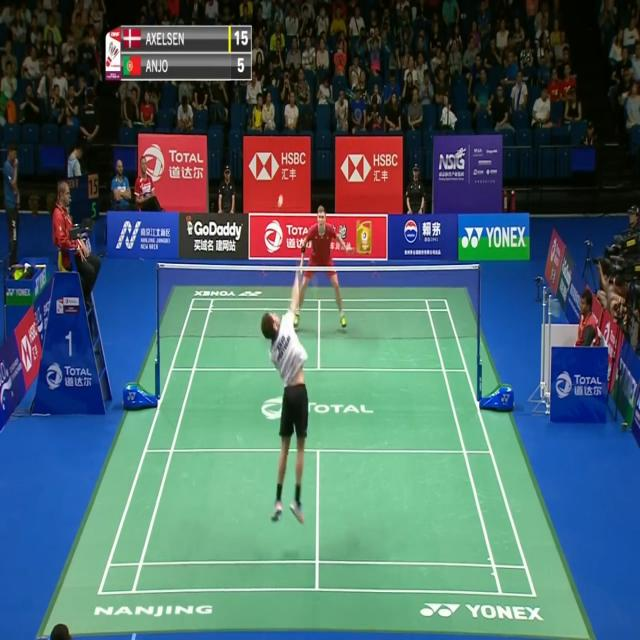Player1: (250, 256, 316, 533)
Player2: (288, 201, 356, 336)
